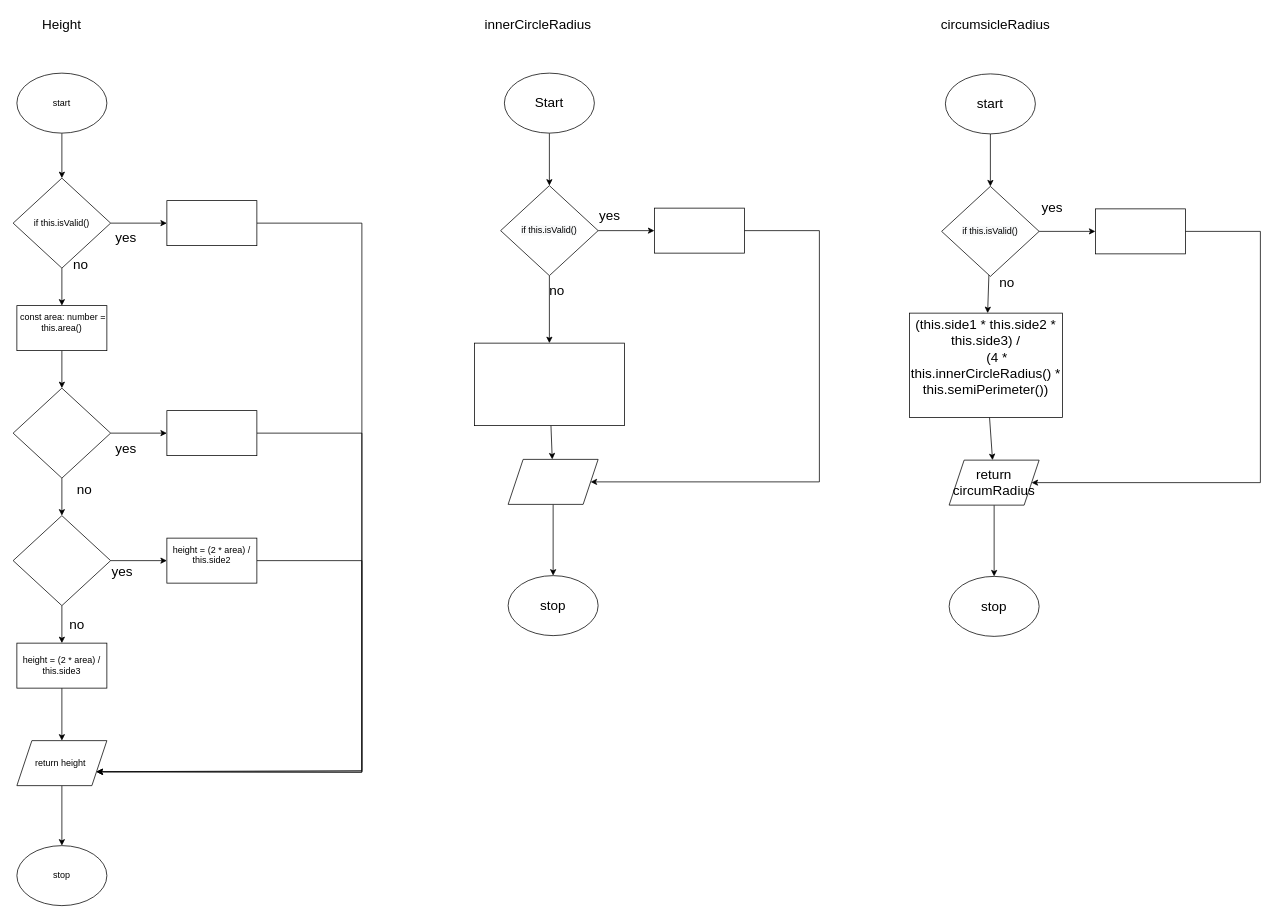
Image size: 1280x919. Some labels were removed from this diagram. Each missing label, with the centre of its shape:
cosnt circumradius = -1: the point at 1140,231
cosnt height = -1: the point at 211,223
cosnt innercircle= -1: the point at 699,230
else if (side === 2): the point at 61,560
height = (2 * area) / this.side1: the point at 211,433
if (side === 1): the point at 61,432
return inner circle: the point at 552,481
this.area() / this.semiPerimeter(): the point at 549,384
